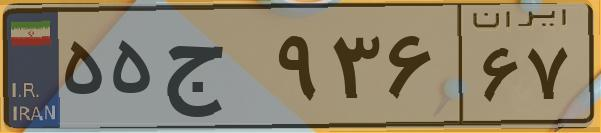3: (330, 28, 385, 110)
5: (57, 26, 110, 100), (110, 28, 158, 98)
6: (385, 28, 445, 110), (475, 38, 525, 113)
7: (525, 38, 570, 115)
9: (270, 28, 330, 110)
ج: (158, 20, 270, 120)
